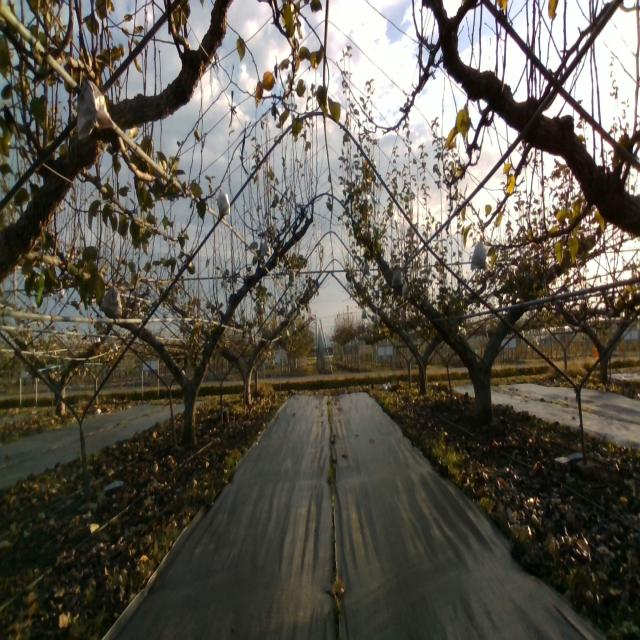pearbags: (76, 72, 116, 140), (470, 237, 487, 271), (217, 185, 231, 219), (391, 264, 404, 288), (260, 236, 272, 258)
